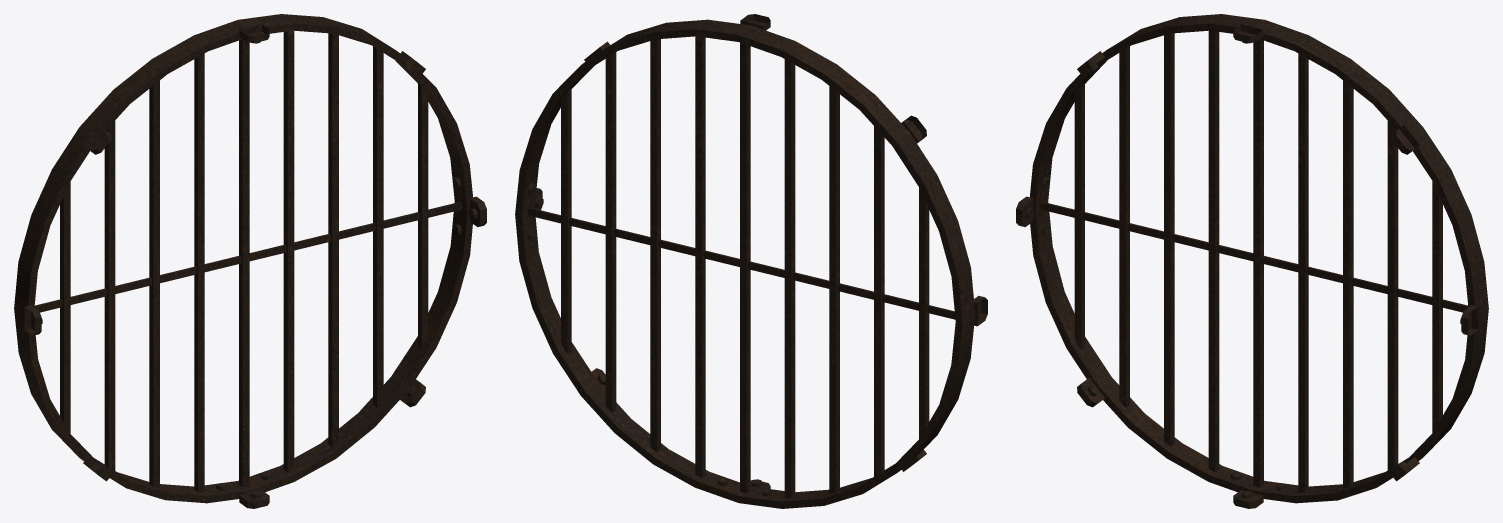
The model's file is concrete_pipe_hm_1_end_bars_1.glb.
The picture shows the model from 3 angles, left to right: view 1: azimuth 30°, elevation 25°; view 2: azimuth 150°, elevation 25°; view 3: azimuth 330°, elevation 25°; orthographic projection.
Parts seen in each view (by area): view 1: concrete_pipe_hm_1_end_bars_1; view 2: concrete_pipe_hm_1_end_bars_1; view 3: concrete_pipe_hm_1_end_bars_1.
Part boxes in pixels (left/top/right/bottom): concrete_pipe_hm_1_end_bars_1: left=14, top=14, right=486, bottom=508; concrete_pipe_hm_1_end_bars_1: left=515, top=14, right=987, bottom=508; concrete_pipe_hm_1_end_bars_1: left=1016, top=14, right=1488, bottom=508.
Bounding box in the file's own units: 2.02 × 2.02 × 0.18.
1 material, 1 textured.
